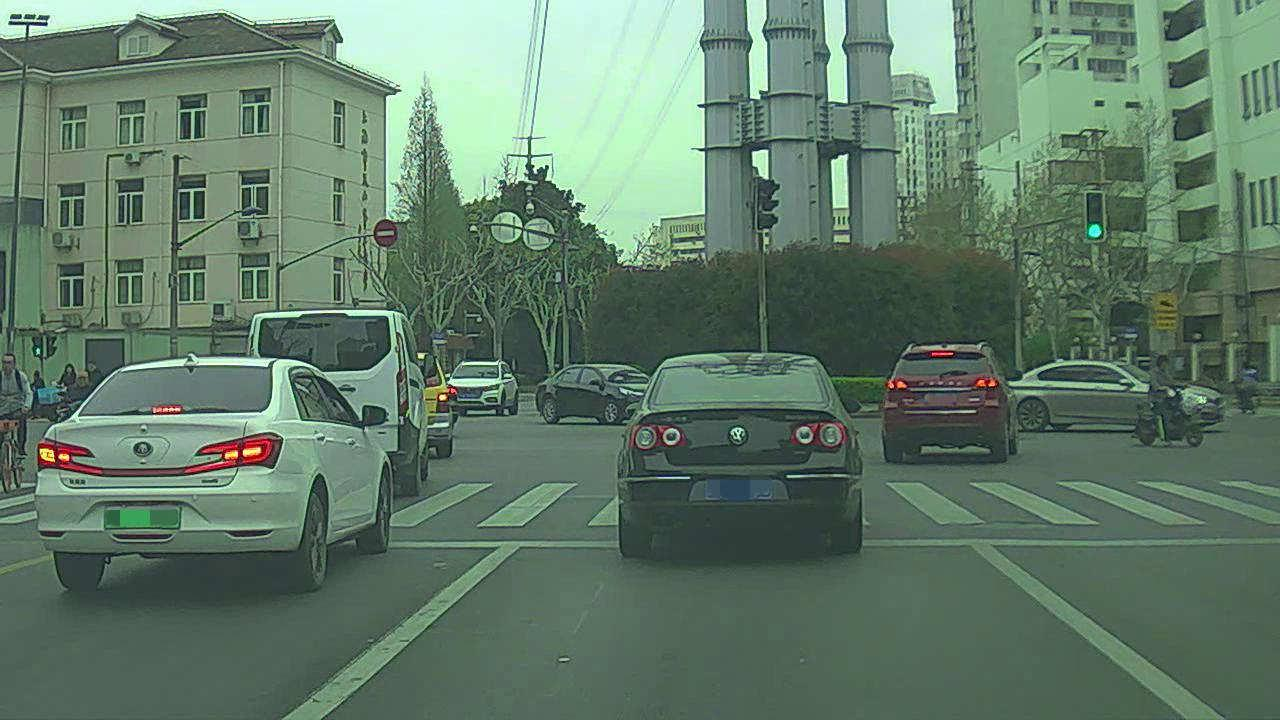traffic_light: (1086, 186, 1108, 244)
